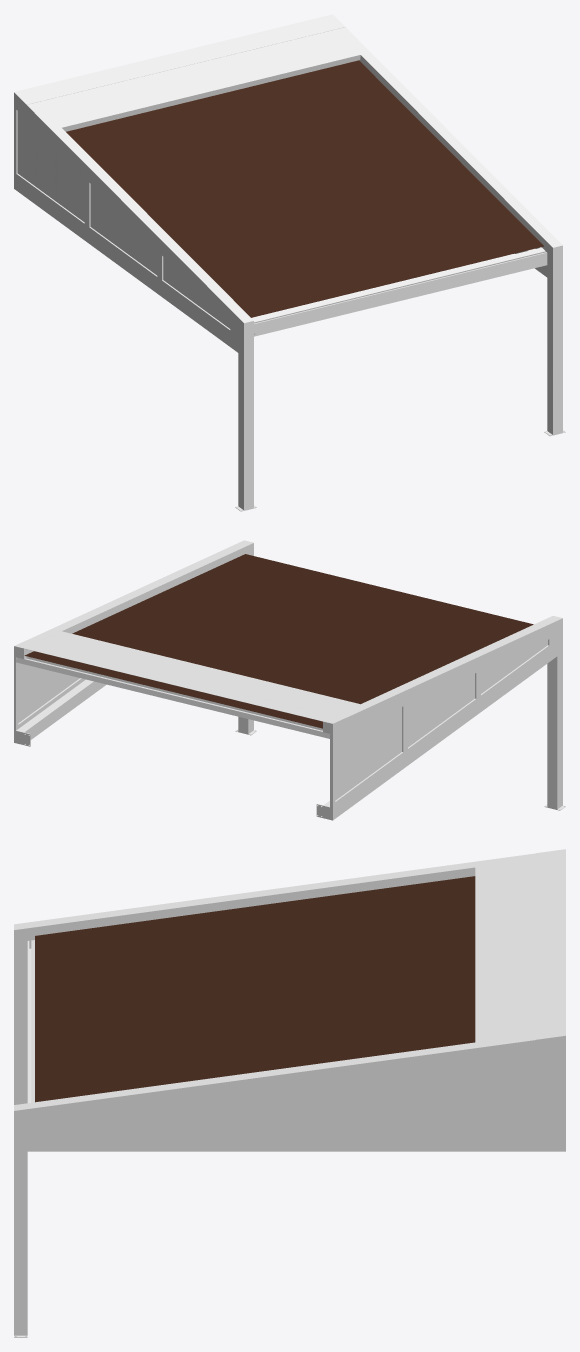
The model's file is Saxun_Fulvia.glb.
The picture shows the model from 3 angles, top to bottom: view 1: azimuth 30°, elevation 25°; view 2: azimuth 150°, elevation 25°; view 3: azimuth 270°, elevation 25°; orthographic projection. The views are drawn at different scales.
Parts seen in each view (by area): view 1: pergo, FULVIA ROOF ROOF [606955], FULVIA_STRUCTURE FULVIA_STRUCTURE [11360], FULVIA_STRUCTURE FULVIA_STRUCTURE [12681], FULVIA FABRIC SIDE FABRIC SIDE [432834], Extrusión [9095], Extrusión [7967], FULVIA GLASS SIDE GLASS SIDE [559848], FULVIA_BEAM BEAM [347418], FULVIA_FABRIC FABRIC [320134].006; view 2: pergo, FULVIA FABRIC SIDE FABRIC SIDE [432834], FULVIA_STRUCTURE FULVIA_STRUCTURE [11360], FULVIA ROOF ROOF [606955], FULVIA_STRUCTURE FULVIA_STRUCTURE [12681], FULVIA_BEAM BEAM [347418], FULVIA GLASS SIDE GLASS SIDE [559848], Extrusión [9095], FULVIA FABRIC SIDE FABRIC SIDE [440122], FULVIA_FABRIC FABRIC [320134].004, FULVIA_BEAM BEAM [347804], FULVIA_FABRIC FABRIC [320134].008; view 3: pergo, FULVIA FABRIC SIDE FABRIC SIDE [440122], FULVIA_STRUCTURE FULVIA_STRUCTURE [12681], FULVIA ROOF ROOF [606955], FULVIA_STRUCTURE FULVIA_STRUCTURE [11360], FULVIA_BEAM BEAM [347804], FULVIA GLASS SIDE GLASS SIDE [587181], Extrusión [9095], Extrusión [7967], FULVIA_FABRIC FABRIC [320134].006.
Part boxes in pixels (x1,y1,x2,y2): pergo: (66, 60, 543, 317); FULVIA ROOF ROOF [606955]: (37, 29, 360, 131); FULVIA_STRUCTURE FULVIA_STRUCTURE [11360]: (14, 92, 256, 511); FULVIA_STRUCTURE FULVIA_STRUCTURE [12681]: (335, 27, 565, 436); FULVIA FABRIC SIDE FABRIC SIDE [432834]: (17, 111, 230, 328); Extrusión [9095]: (14, 14, 344, 104); Extrusión [7967]: (254, 252, 547, 336); FULVIA GLASS SIDE GLASS SIDE [559848]: (14, 103, 232, 335); FULVIA_BEAM BEAM [347418]: (14, 176, 238, 352); FULVIA_FABRIC FABRIC [320134].006: (252, 247, 546, 323); pergo: (24, 554, 533, 728); FULVIA FABRIC SIDE FABRIC SIDE [432834]: (330, 640, 547, 807); FULVIA_STRUCTURE FULVIA_STRUCTURE [11360]: (323, 616, 565, 810); FULVIA ROOF ROOF [606955]: (37, 631, 359, 715); FULVIA_STRUCTURE FULVIA_STRUCTURE [12681]: (14, 540, 256, 735); FULVIA_BEAM BEAM [347418]: (316, 644, 557, 820); FULVIA GLASS SIDE GLASS SIDE [559848]: (331, 634, 551, 807); Extrusión [9095]: (14, 640, 345, 723); FULVIA FABRIC SIDE FABRIC SIDE [440122]: (14, 657, 85, 730); FULVIA_FABRIC FABRIC [320134].004: (16, 657, 329, 738); FULVIA_BEAM BEAM [347804]: (14, 679, 106, 746); FULVIA_FABRIC FABRIC [320134].008: (26, 657, 322, 730); pergo: (35, 876, 475, 1102); FULVIA FABRIC SIDE FABRIC SIDE [440122]: (47, 1054, 560, 1131); FULVIA_STRUCTURE FULVIA_STRUCTURE [12681]: (14, 1034, 565, 1337); FULVIA ROOF ROOF [606955]: (475, 859, 535, 1042); FULVIA_STRUCTURE FULVIA_STRUCTURE [11360]: (14, 853, 535, 1104); FULVIA_BEAM BEAM [347804]: (27, 1136, 565, 1151); FULVIA GLASS SIDE GLASS SIDE [587181]: (41, 1048, 565, 1136); Extrusión [9095]: (535, 849, 565, 1039); Extrusión [7967]: (27, 941, 31, 1103); FULVIA_FABRIC FABRIC [320134].006: (31, 940, 34, 1102).
Bounding box in the file's own units: 4.08 × 3 × 5.
